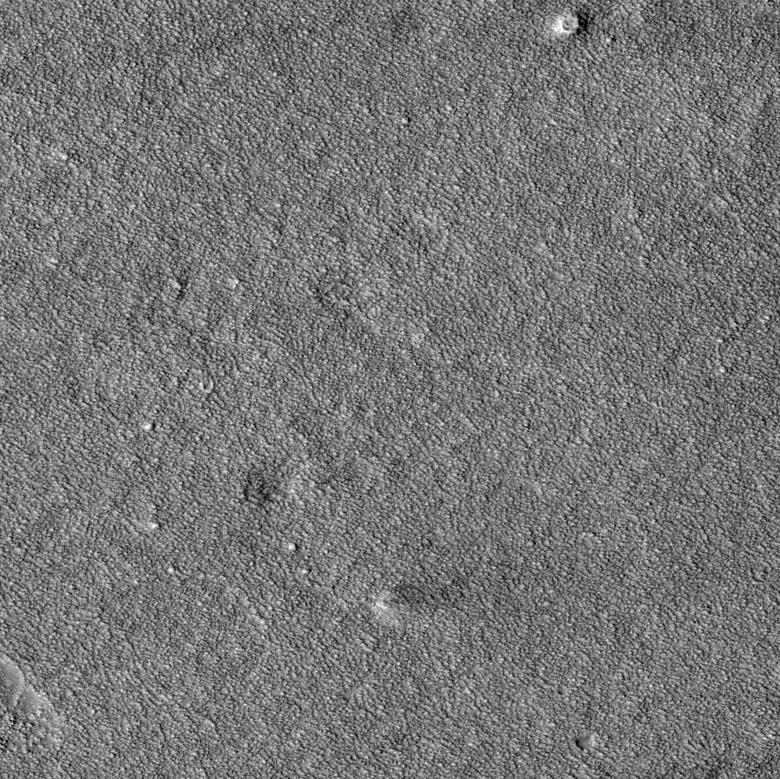dust_devil: (368, 575, 473, 624)
